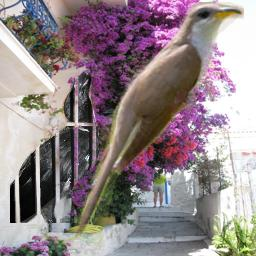Crow: (10, 72, 99, 223)
Cuckoo: (69, 2, 244, 244)
